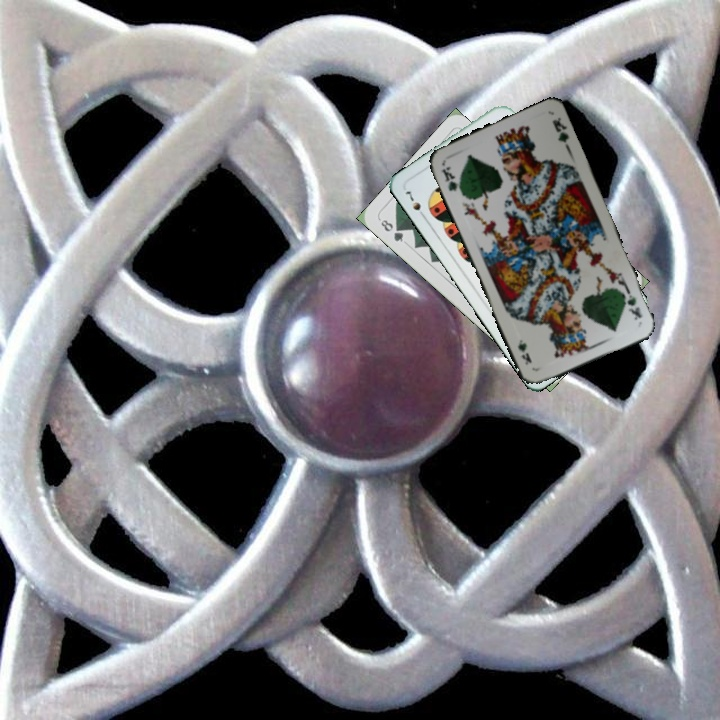G8: (376, 215, 406, 245)
GK: (437, 162, 465, 196), (623, 286, 645, 322)
S7: (401, 187, 429, 221)
